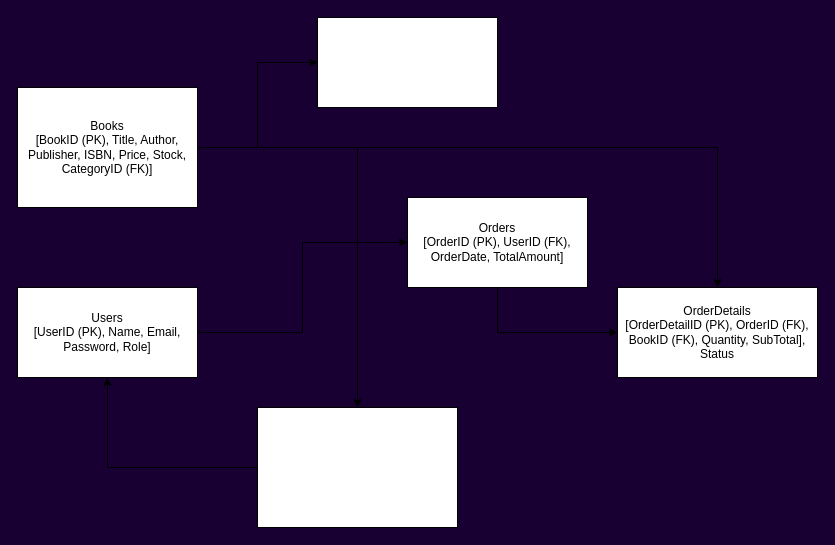
Some shapes in this 835 by 545 pixel diagram are drawn without their labels. Here are the shapes that lost their labels. From the top down, the box of each, then its label:
(316, 16, 498, 108): Categories [CategoryID (PK), Name, Description]
(256, 406, 458, 528): Reviews [ReviewID (PK), BookID (FK), UserID (FK), Rating, Comment, ReviewDate]
